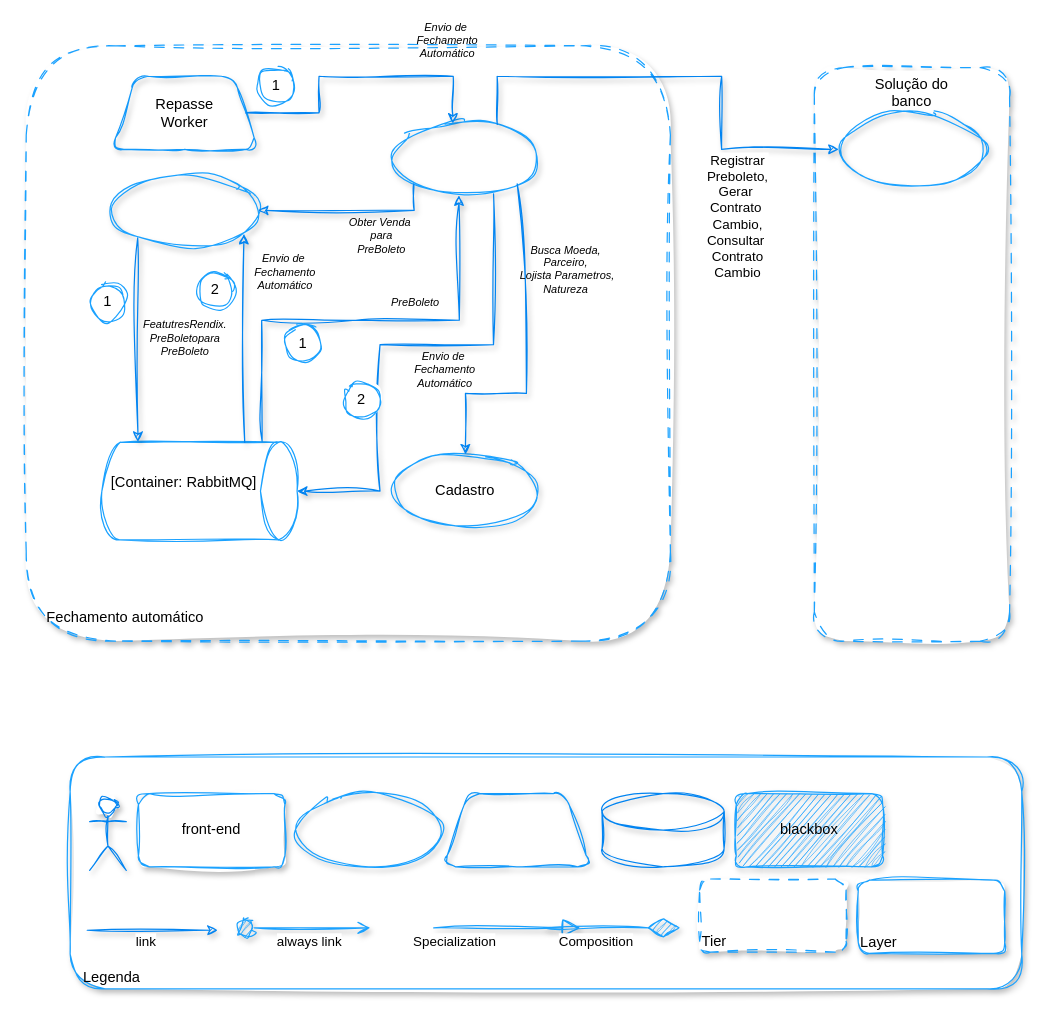
Some shapes in this 1050 by 1019 pixel diagram are drawn without their labels. The shapes that lost their labels are listed below. From the top down, each one's centre as x and y in pixels, then its label:
At point (466, 159): "Repasse".
At point (912, 151): "Caas (taxa)".
At point (185, 212): "Venda".
At point (109, 835): "Actor".
At point (371, 831): "Service".
At point (517, 831): "batch".
At point (663, 831): "database".
